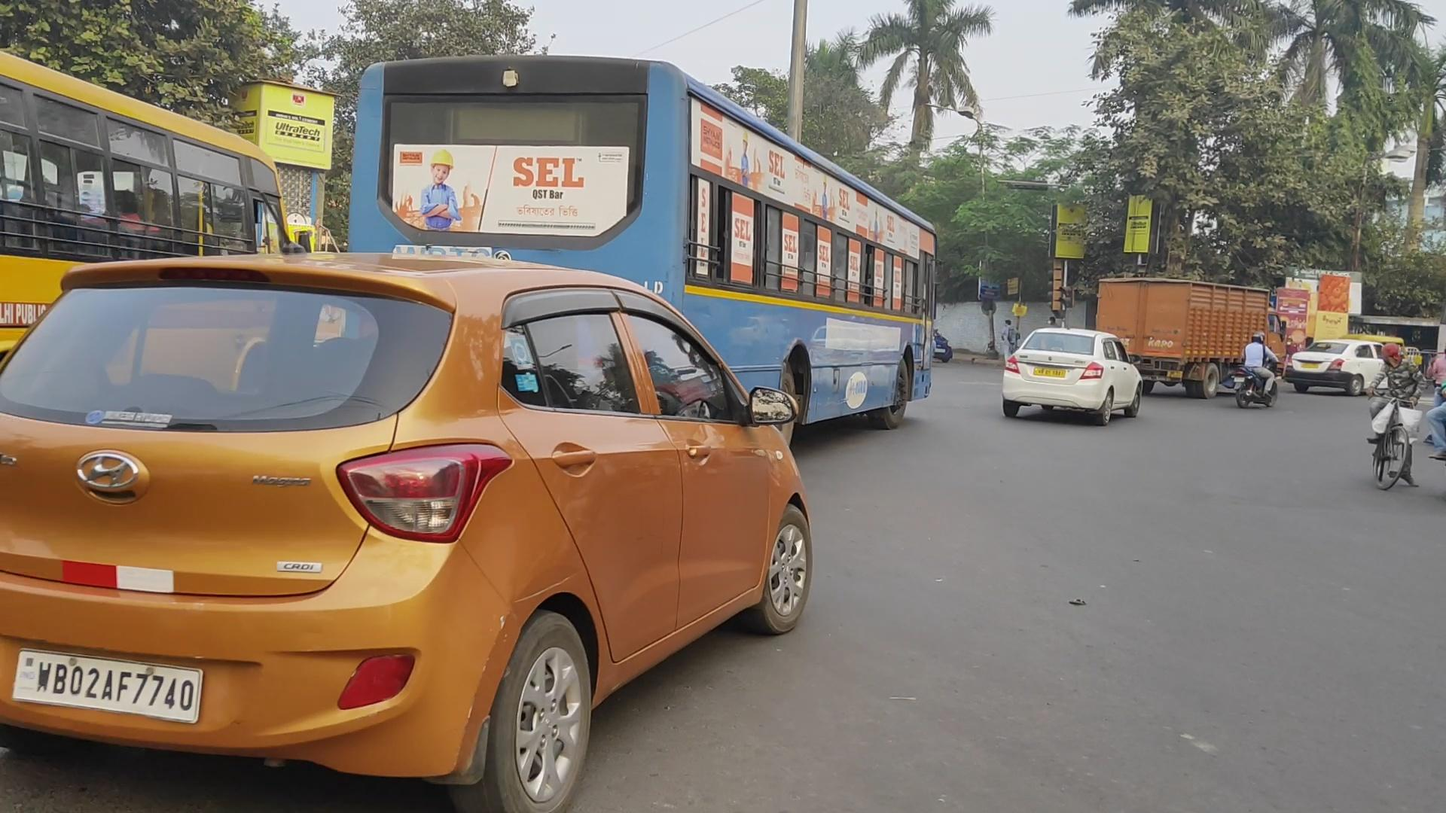Bus: (347, 53, 942, 461), (1, 48, 307, 542)
bike: (1365, 343, 1420, 491), (1232, 330, 1283, 410)
car: (2, 247, 812, 813), (1002, 327, 1143, 425), (1284, 339, 1412, 397)
truck: (1096, 277, 1286, 400)
